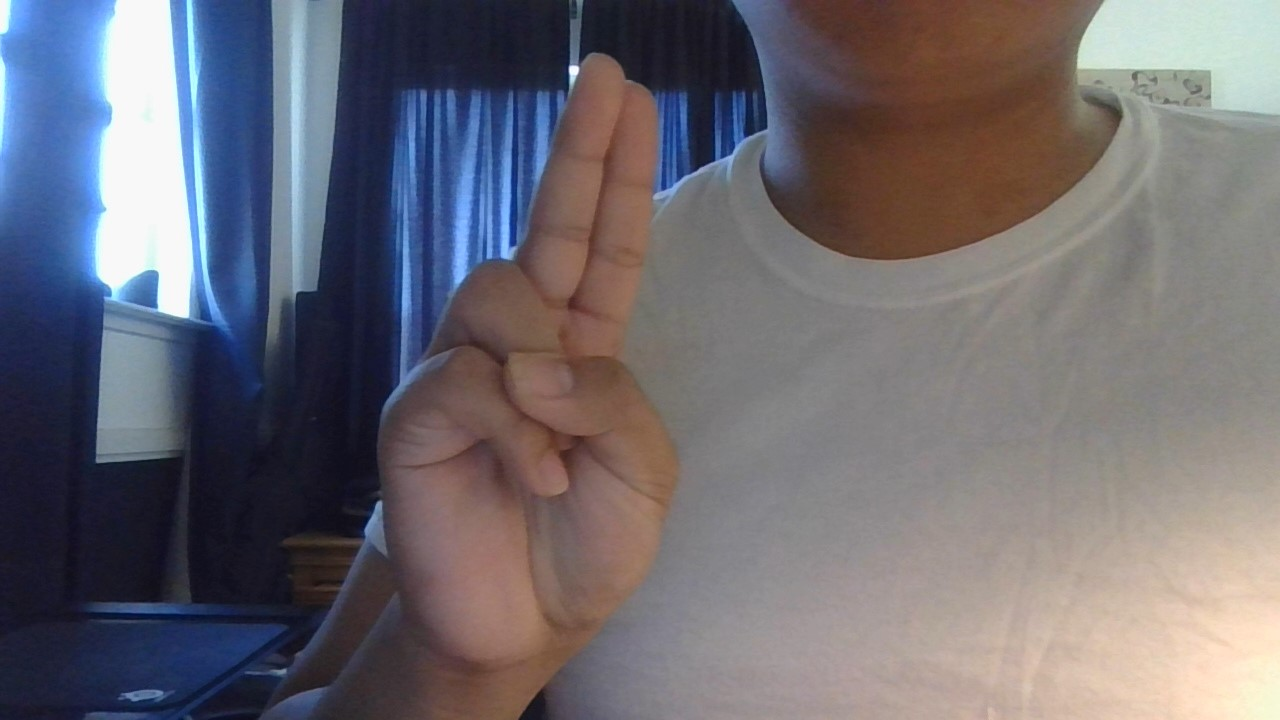u: (338, 47, 752, 655)
